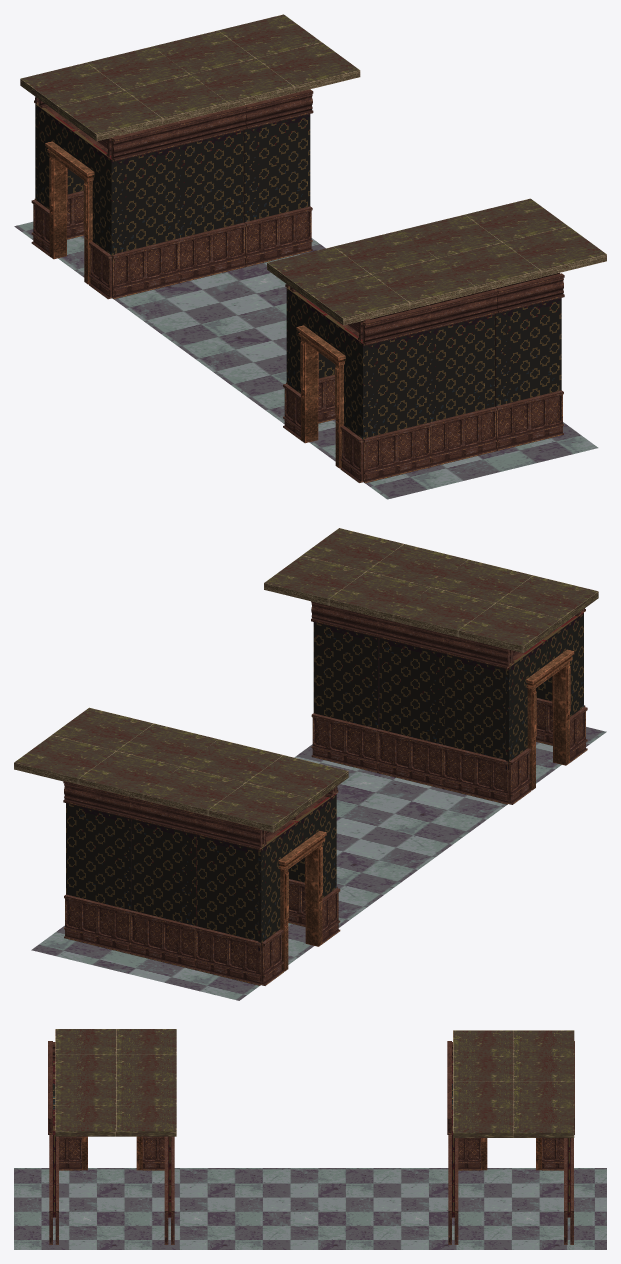
File: hallway.fbx
3 views of the same model, one above another, from view 1: azimuth 30°, elevation 25°; view 2: azimuth 150°, elevation 25°; view 3: azimuth 270°, elevation 25° (orthographic). The views are drawn at different scales.
Visible parts, largest first — view 1: Ceiling5; view 2: Ceiling5; view 3: Ceiling5.
Boxes of the visible parts, box(x1,y1,x2,y2) form: Ceiling5: box(14, 14, 606, 499); Ceiling5: box(14, 528, 606, 1000); Ceiling5: box(14, 1029, 606, 1249).
Size of the model in its own units: 808 by 480 by 1956.
